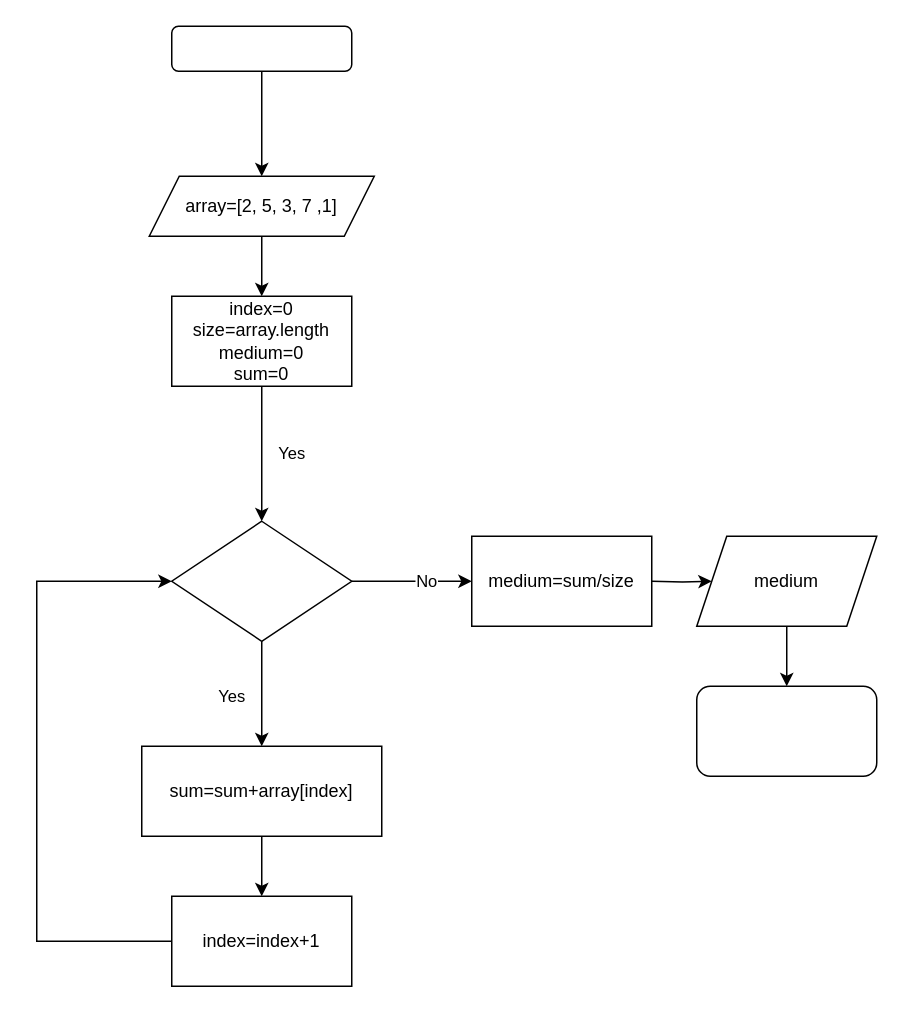
This 903x1013 diagram has some shape labels left out. Here are the shapes that lost their labels. From the top down, the centre of each, then its label:
At point 261,48: "Begin".
At point 261,580: "size>index".
At point 786,730: "End".
